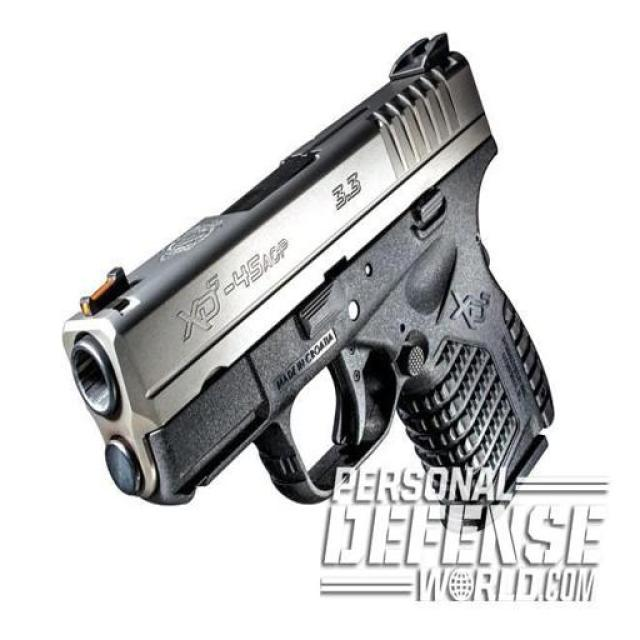pistol: (62, 31, 565, 523)
